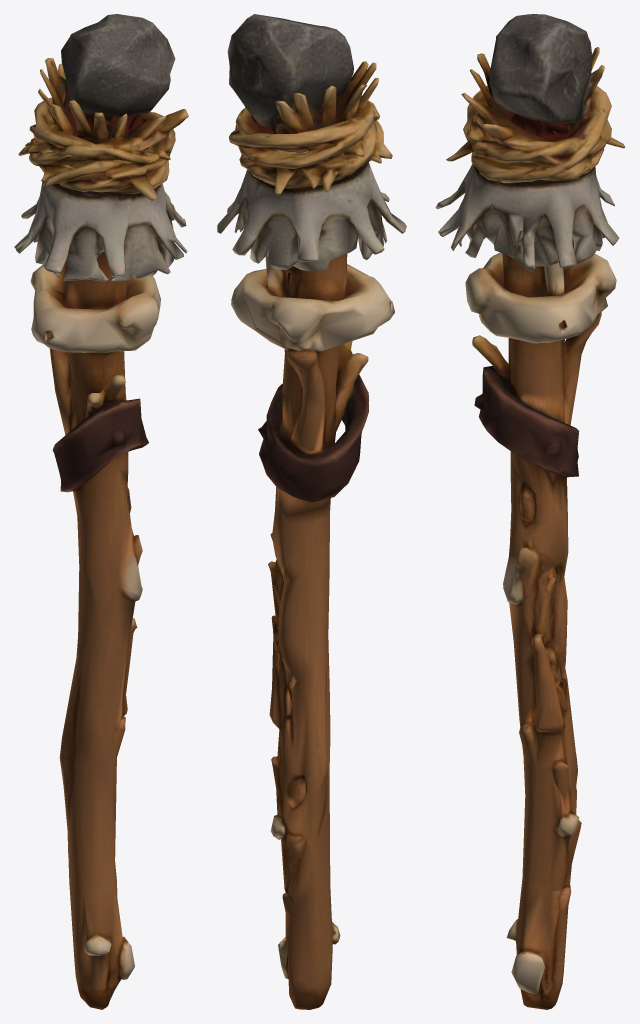
File: antorcha.glb
The picture shows the model from 3 angles, left to right: view 1: azimuth 30°, elevation 25°; view 2: azimuth 150°, elevation 25°; view 3: azimuth 270°, elevation 25°; orthographic projection. The views are drawn at different scales.
Visible parts, largest first — view 1: tripo_node_dfd9895b-4ef5-4e2a-8a69-fa5e4c4b3b8d; view 2: tripo_node_dfd9895b-4ef5-4e2a-8a69-fa5e4c4b3b8d; view 3: tripo_node_dfd9895b-4ef5-4e2a-8a69-fa5e4c4b3b8d.
Boxes of the visible parts, bbox=[...] form: tripo_node_dfd9895b-4ef5-4e2a-8a69-fa5e4c4b3b8d: bbox=[14, 14, 188, 1009]; tripo_node_dfd9895b-4ef5-4e2a-8a69-fa5e4c4b3b8d: bbox=[217, 14, 406, 1009]; tripo_node_dfd9895b-4ef5-4e2a-8a69-fa5e4c4b3b8d: bbox=[435, 14, 624, 1009].
Size of the model in its own units: 0.1733 by 0.9988 by 0.1723.
1 material, 1 textured.
